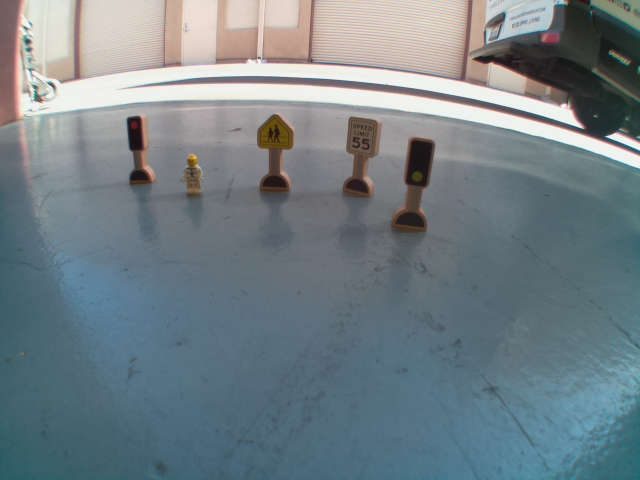Green Traffic Light: (401, 134, 433, 190)
Red Traffic Light: (123, 113, 149, 154)
Speed Limit 55: (345, 113, 381, 159)
YIELD: (251, 108, 300, 153)
person: (179, 152, 210, 193)
